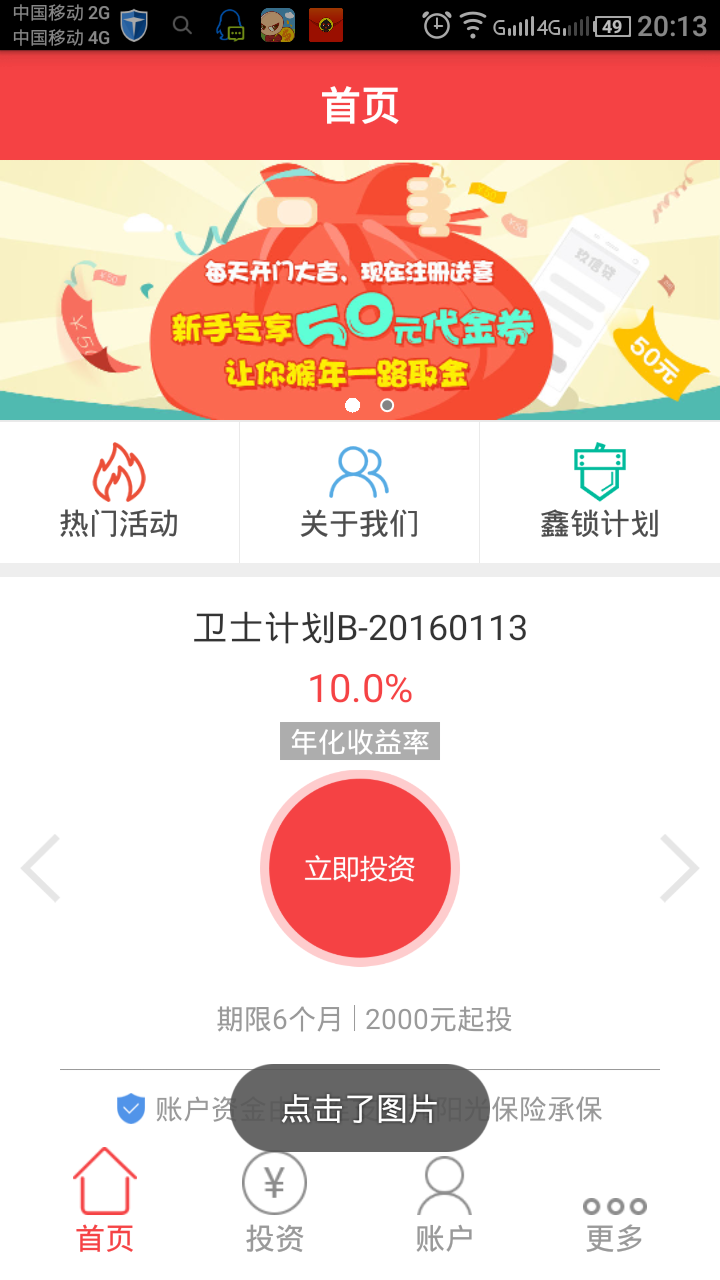imgbutton: (245, 756, 467, 971)
